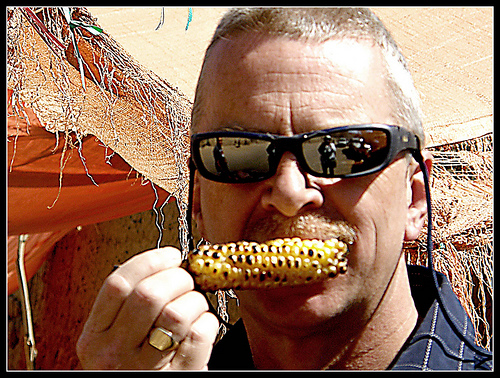corn: (182, 236, 347, 290)
